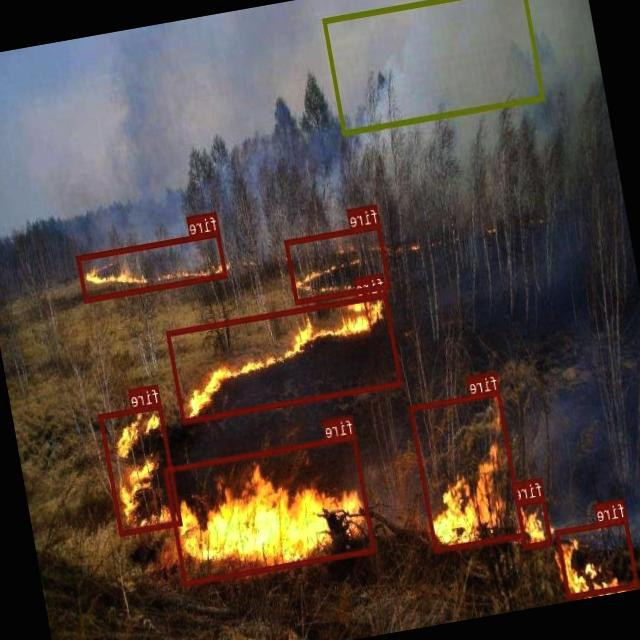fire: (164, 433, 376, 585), (166, 291, 403, 423), (409, 389, 525, 552), (99, 402, 183, 535), (77, 230, 228, 302), (284, 222, 392, 304), (556, 516, 640, 598), (516, 496, 553, 548)
smoke: (322, 0, 545, 134)
